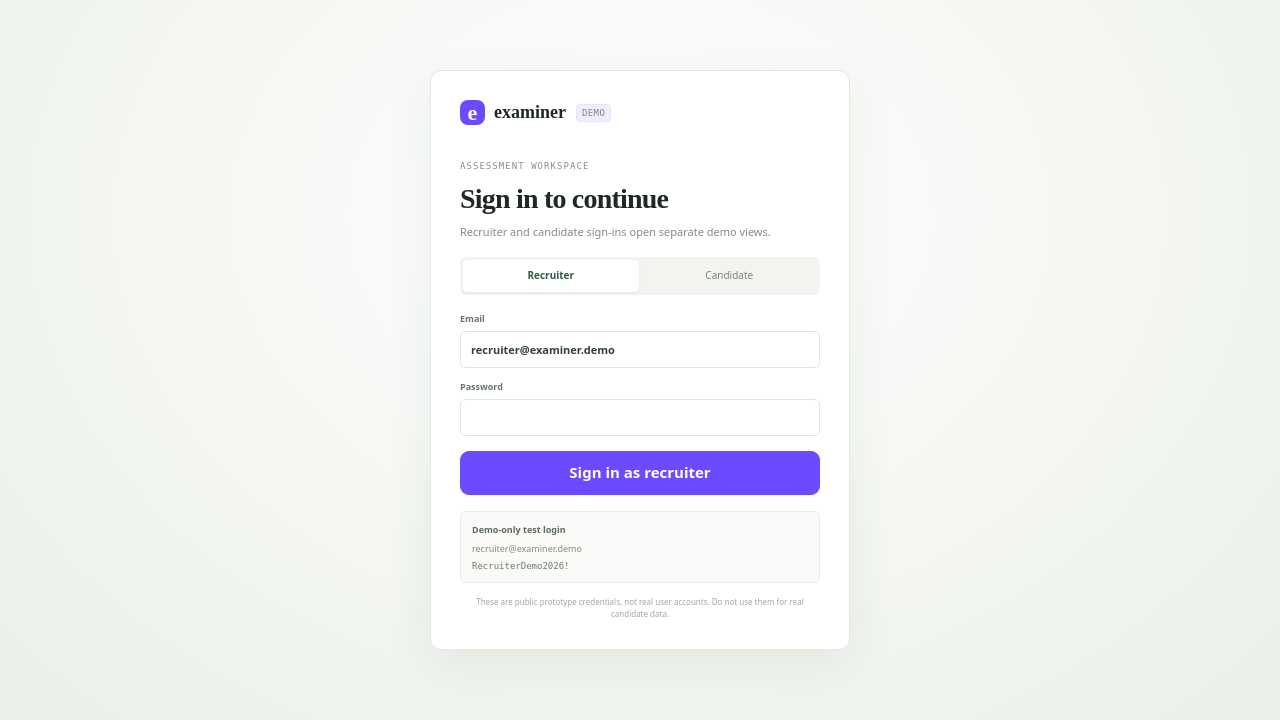
Test: separate demo login views › does not allow recruiter credentials in the candidate login
The image size is (1280, 720).
Click the tab "Candidate": (729,276) [642, 260, 817, 292]
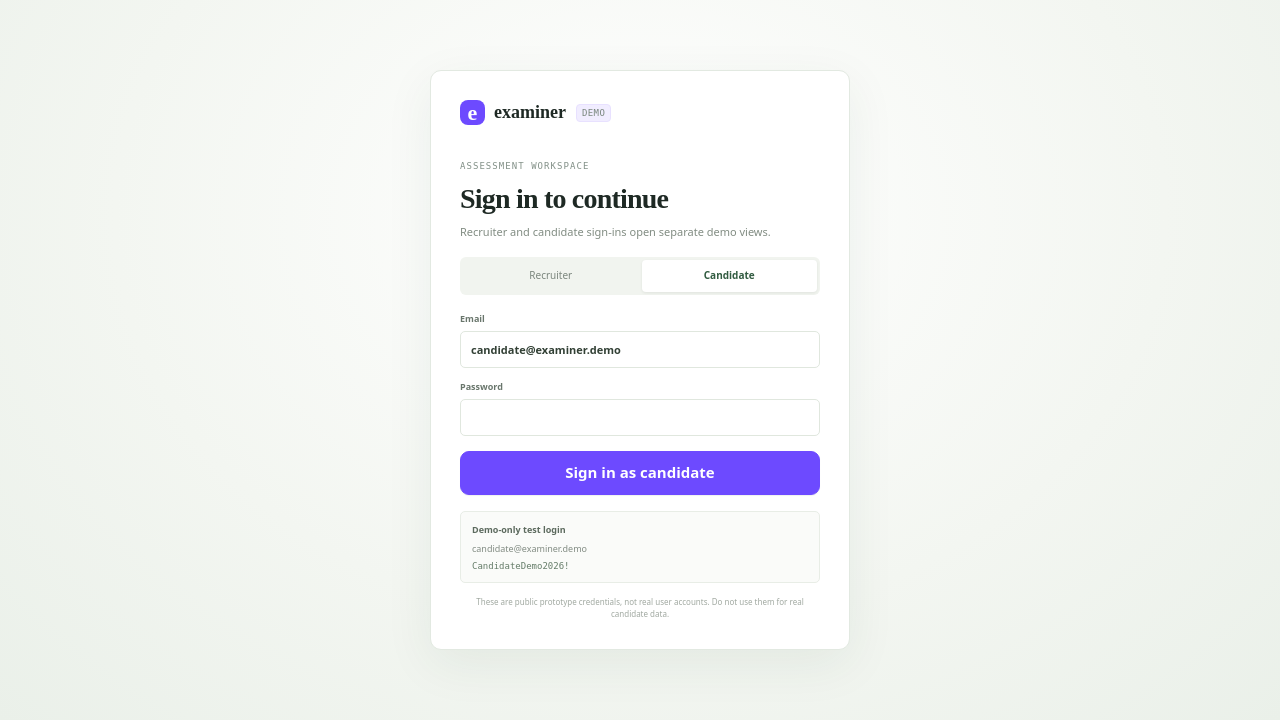
In the password field labelled "Password": (640,418) [460, 399, 820, 436], type "RecruiterDemo2026!"
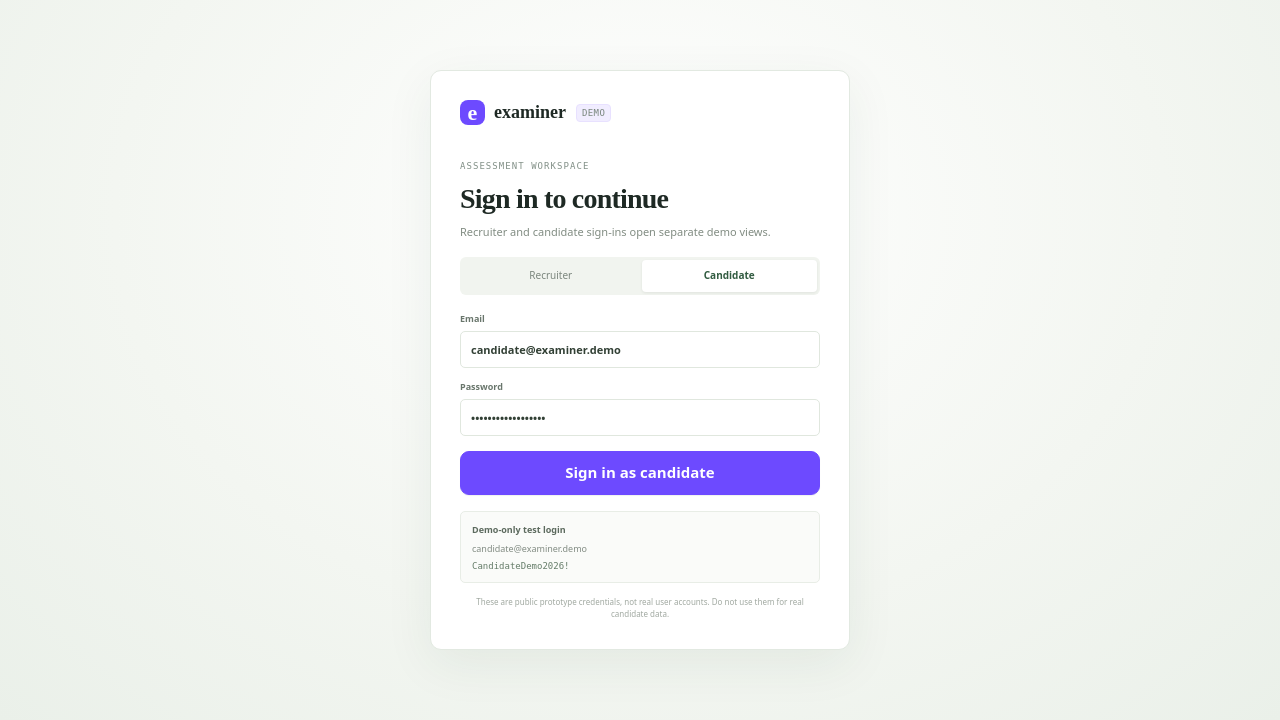
Click the button "Sign in as candidate": (640,473) [460, 451, 820, 495]
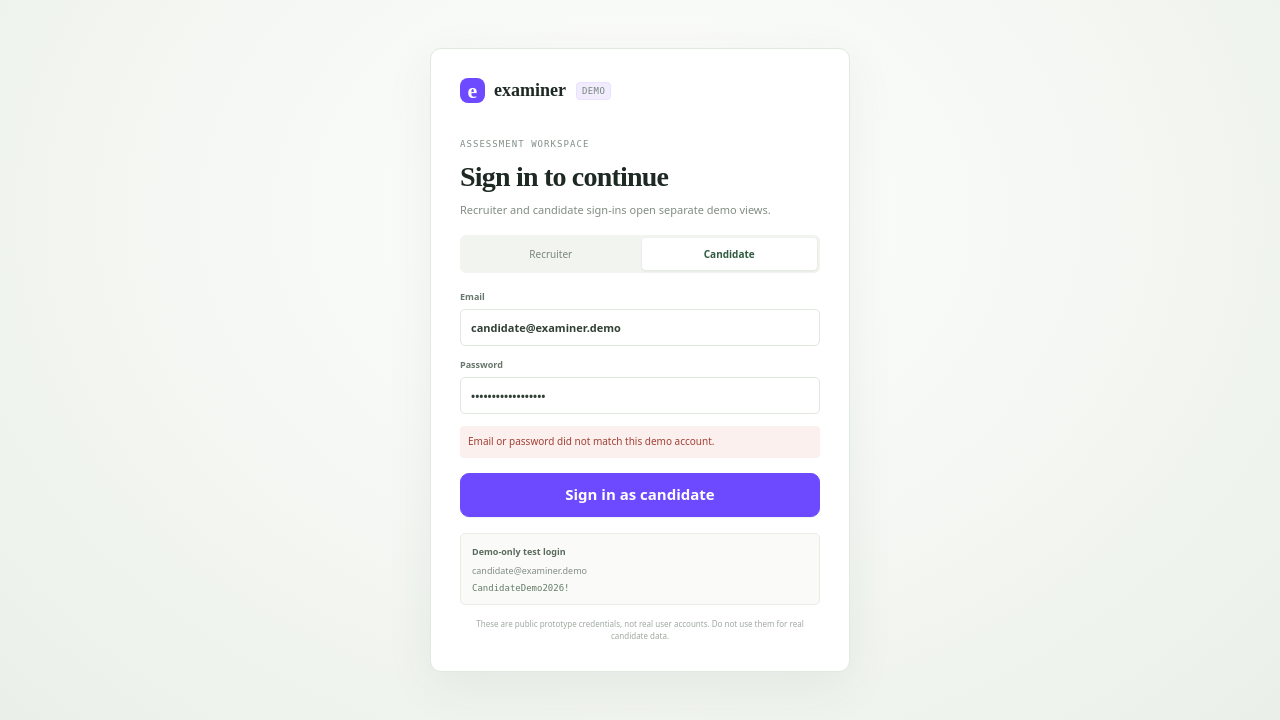
Result: the message shows "did not match" at [468, 434, 714, 448]
